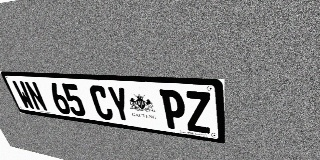5: (61, 83, 87, 117)
6: (46, 82, 72, 115)
C: (88, 85, 115, 121)
N: (23, 81, 49, 112)
P: (159, 89, 187, 131)
W: (11, 80, 36, 110)
Y: (106, 86, 133, 123)
Z: (184, 91, 212, 134)
